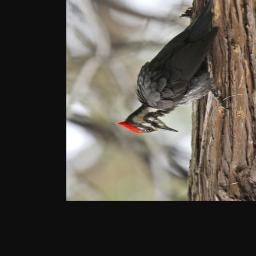Woodpecker: (116, 0, 231, 134)
